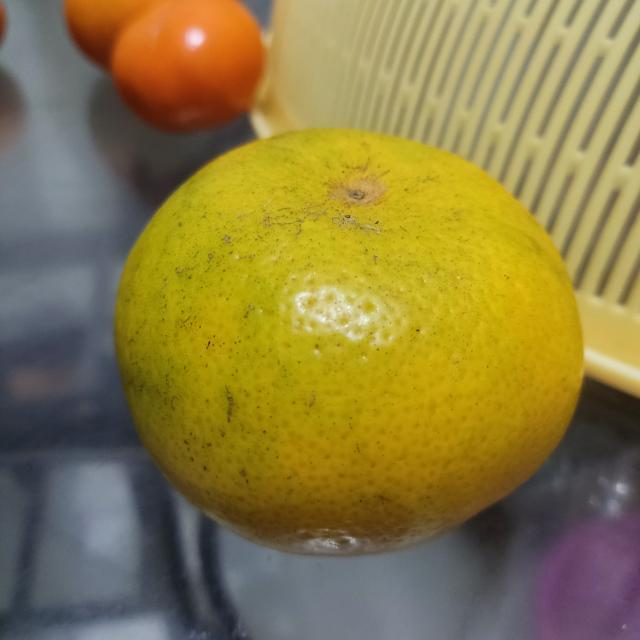orange: (109, 126, 588, 557)
